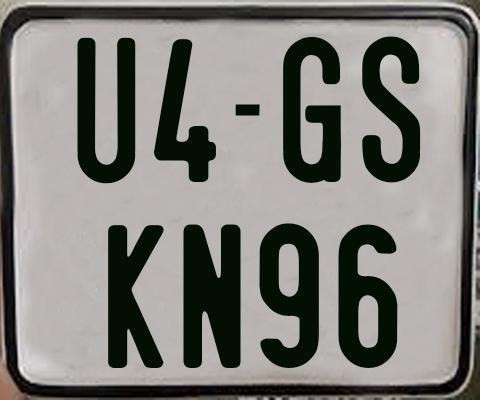4: (152, 39, 219, 184)
6: (336, 221, 397, 371)
9: (259, 221, 322, 369)
G: (281, 37, 341, 184)
K: (105, 222, 163, 370)
N: (180, 224, 239, 371)
S: (361, 33, 421, 182)
U: (74, 35, 134, 180)
